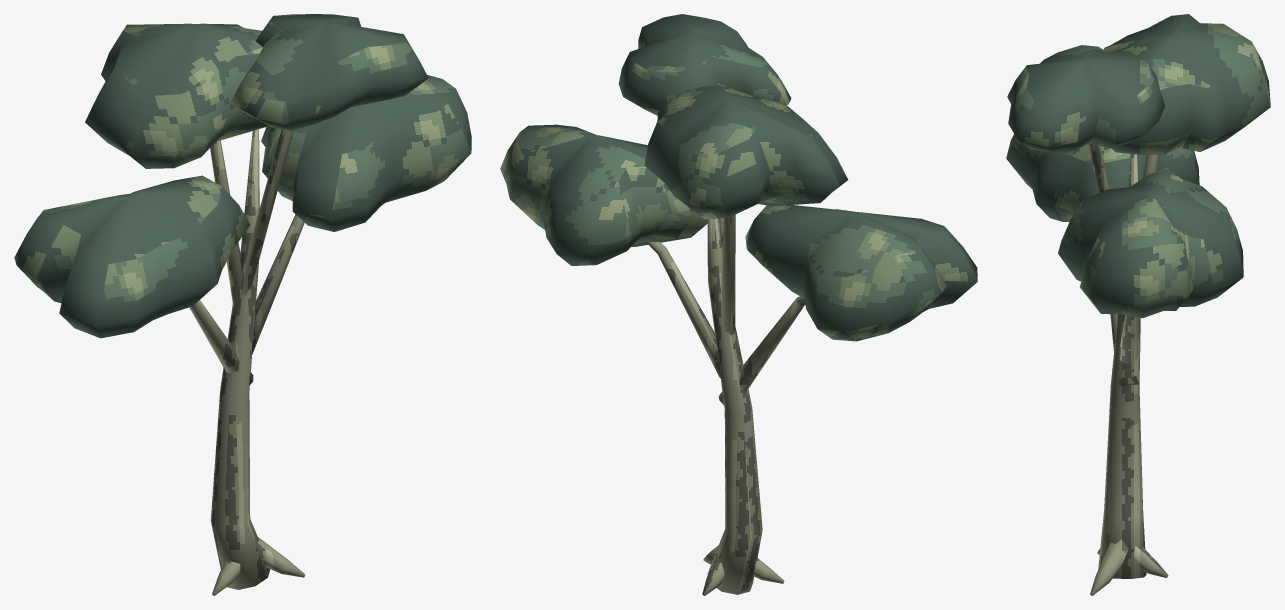
File: broadleaf-open.glb
3 renders of one model, left to right at view 1: azimuth 30°, elevation 25°; view 2: azimuth 150°, elevation 25°; view 3: azimuth 270°, elevation 25°, orthographic. The views are drawn at different scales.
Parts seen in each view (by area): view 1: broadleaf-open runtime mesh; view 2: broadleaf-open runtime mesh; view 3: broadleaf-open runtime mesh.
Part boxes in pixels (bbox=[...]): broadleaf-open runtime mesh: bbox=[14, 14, 471, 595]; broadleaf-open runtime mesh: bbox=[500, 14, 977, 595]; broadleaf-open runtime mesh: bbox=[1006, 14, 1270, 595].
Bounding box in the file's own units: 3.57 × 4.15 × 1.81.
2 materials, 2 textured.
